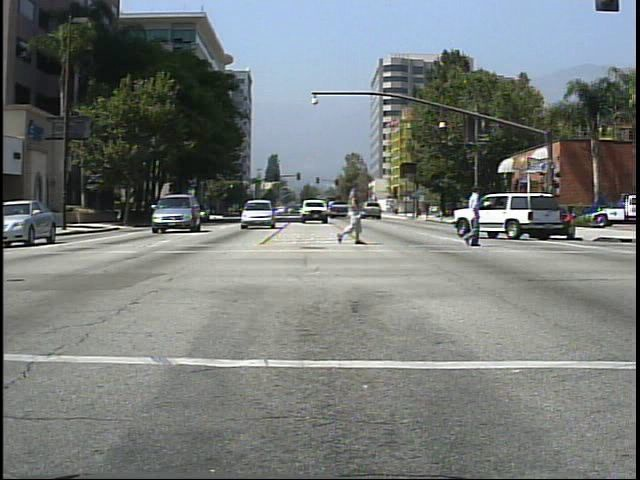person: (331, 176, 368, 250), (456, 178, 492, 254)
